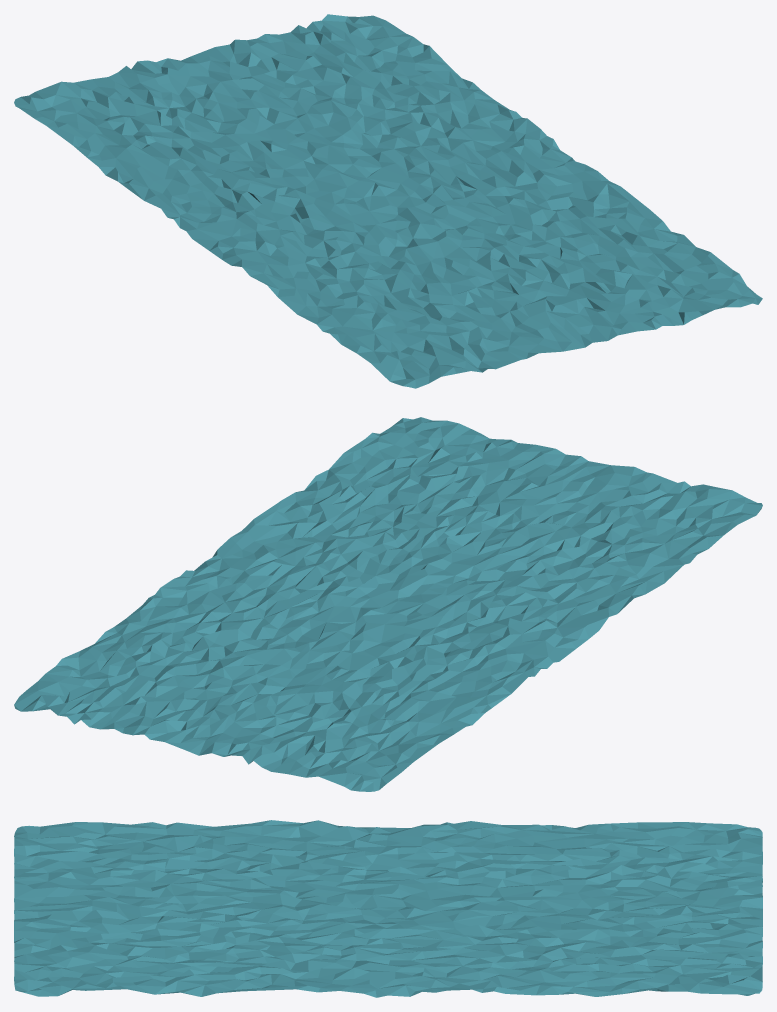
The model's file is eau.fbx.
3 views of the same model, one above another, from view 1: azimuth 30°, elevation 25°; view 2: azimuth 150°, elevation 25°; view 3: azimuth 270°, elevation 25° (orthographic). The views are drawn at different scales.
Visible parts, largest first — view 1: Plane; view 2: Plane; view 3: Plane.
Part boxes in pixels (x1=…): Plane: x1=14, y1=14, x2=762, y2=388; Plane: x1=14, y1=417, x2=762, y2=791; Plane: x1=14, y1=820, x2=762, y2=997.
Bounding box in the file's own units: 1552 × 46.3 × 2903.
